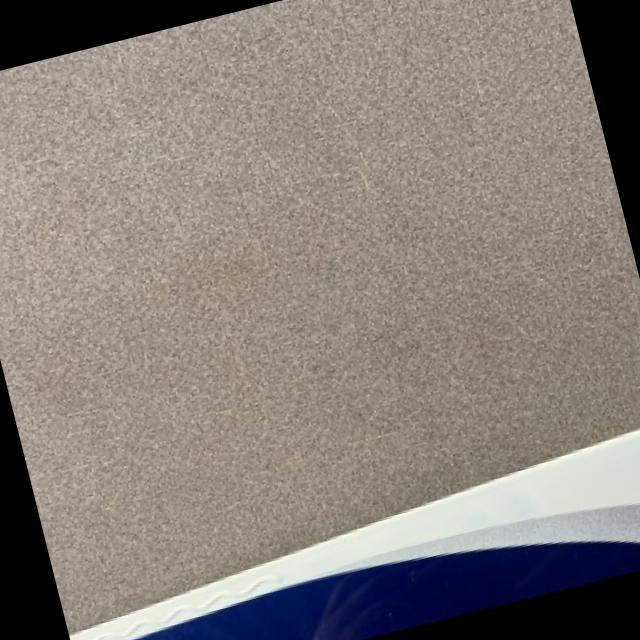healthy: (0, 0, 640, 631), (68, 428, 640, 640)
